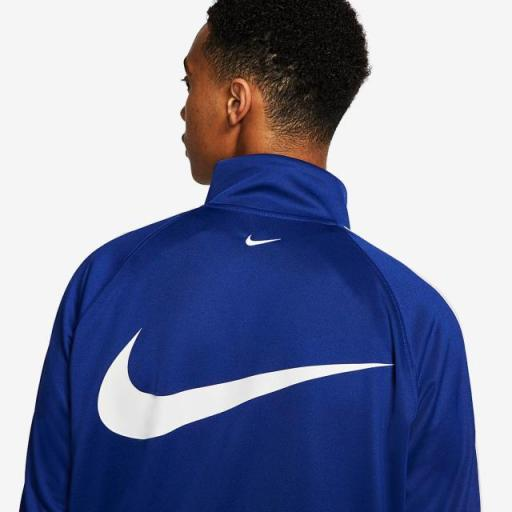Nike: (90, 331, 401, 444)
